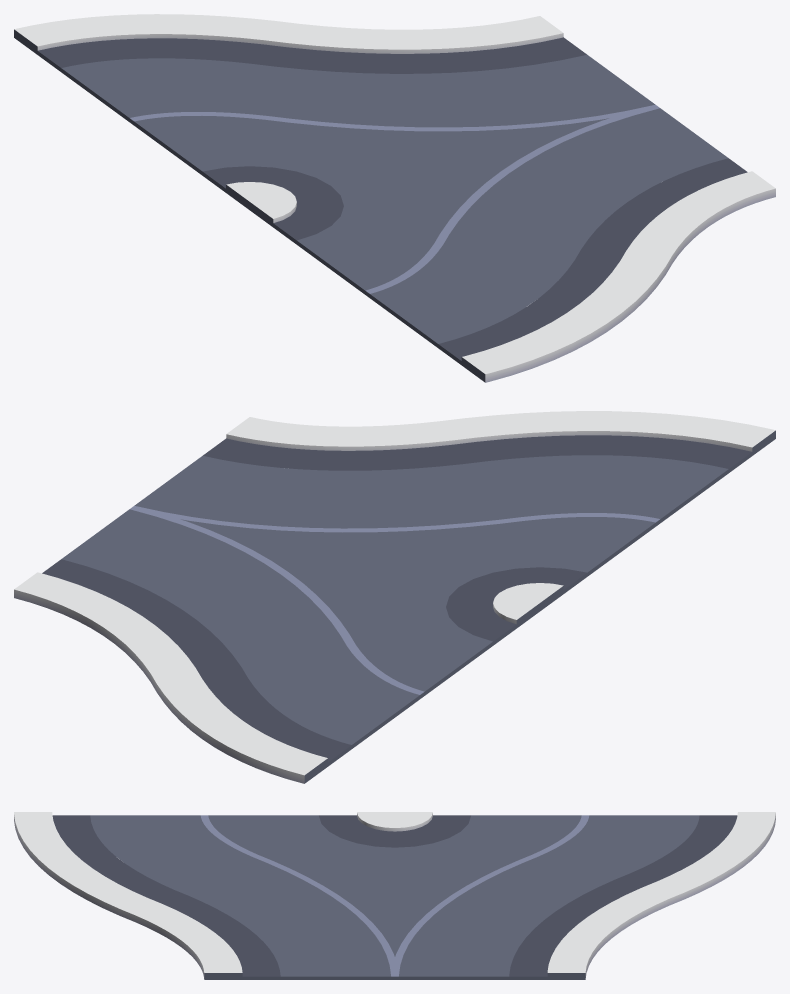
The model's file is kenney-city-roads-road-split.glb.
3 views of the same model, one above another, from view 1: azimuth 30°, elevation 25°; view 2: azimuth 150°, elevation 25°; view 3: azimuth 270°, elevation 25° (orthographic). The views are drawn at different scales.
Parts seen in each view (by area): view 1: road-split; view 2: road-split; view 3: road-split.
Part boxes in pixels (x1=…): road-split: x1=14, y1=14, x2=775, y2=382; road-split: x1=14, y1=411, x2=775, y2=783; road-split: x1=14, y1=812, x2=775, y2=979.
Bounding box in the file's own units: 1 × 0.02 × 2.
Materials: 1 (1 with a texture image).
